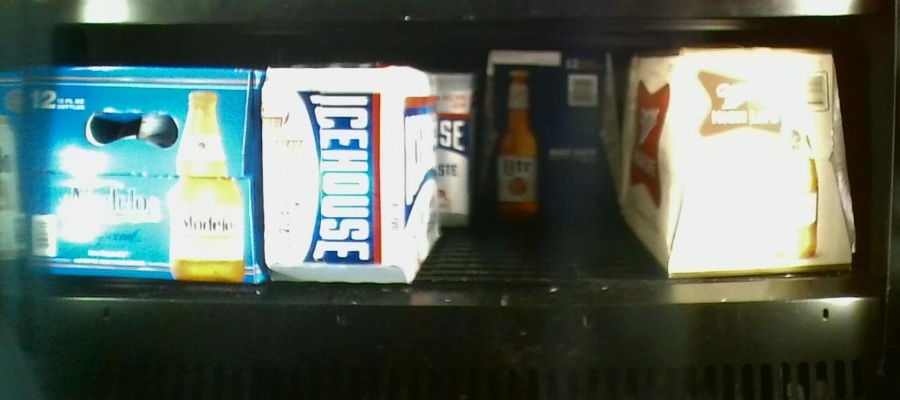bottle: (1, 65, 264, 290), (630, 51, 847, 273), (260, 69, 436, 281), (485, 50, 623, 220)
